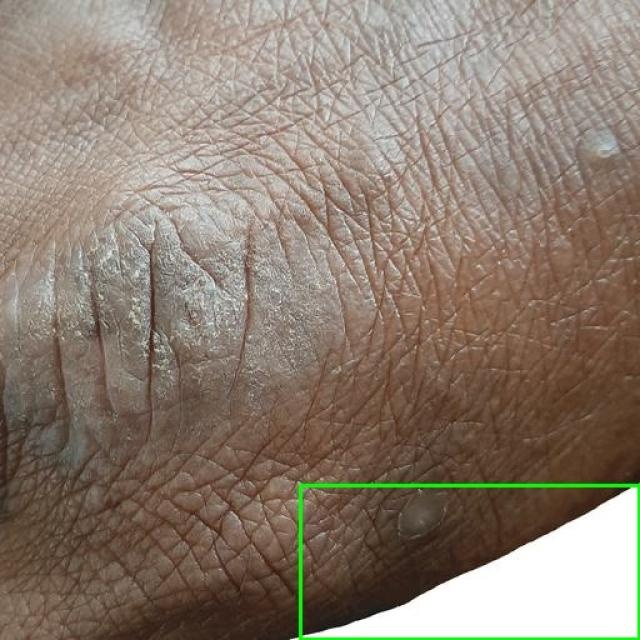Eczema: (300, 485, 639, 639)
